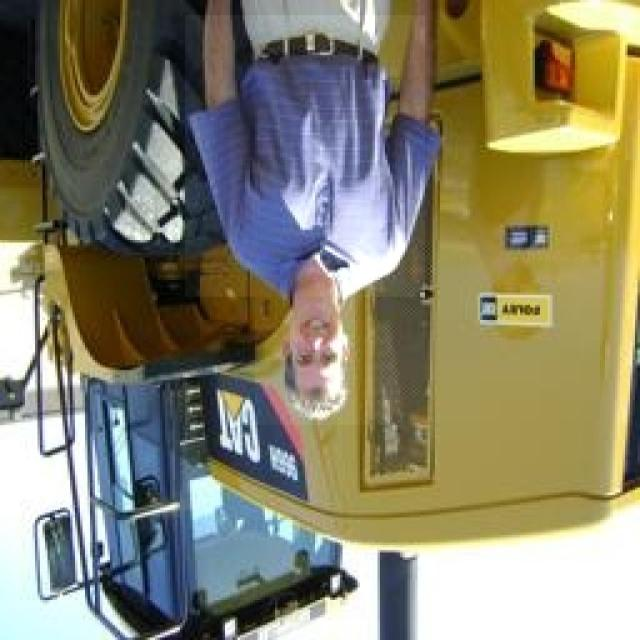Helmet: (185, 15, 425, 297), (255, 278, 370, 425)
